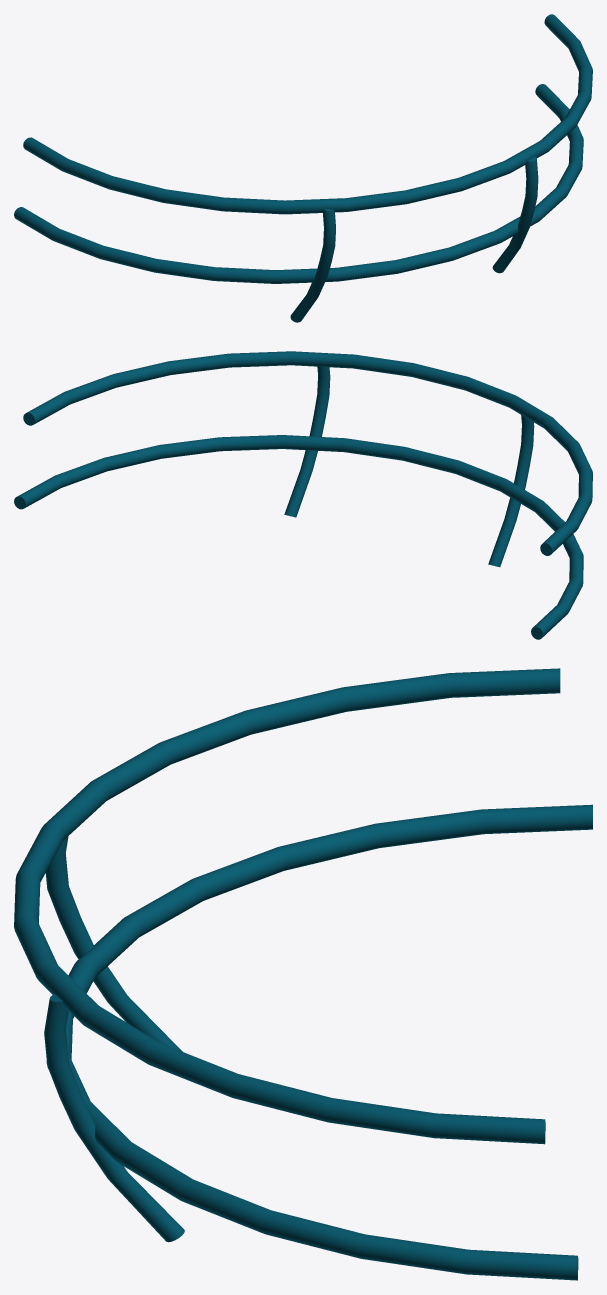
Rendered from football-helmet.fbx.
The picture shows the model from 3 angles, top to bottom: view 1: azimuth 30°, elevation 25°; view 2: azimuth 150°, elevation 25°; view 3: azimuth 270°, elevation 25°; orthographic projection. The views are drawn at different scales.
Parts seen in each view (by area): view 1: HelmetBars; view 2: HelmetBars; view 3: HelmetBars.
Boxes of the visible parts, box(x1,y1,x2,y2) form: HelmetBars: box(14, 14, 592, 322); HelmetBars: box(14, 351, 592, 639); HelmetBars: box(14, 668, 592, 1280).
Bounding box in the file's own units: 167 × 43.09 × 88.53.
